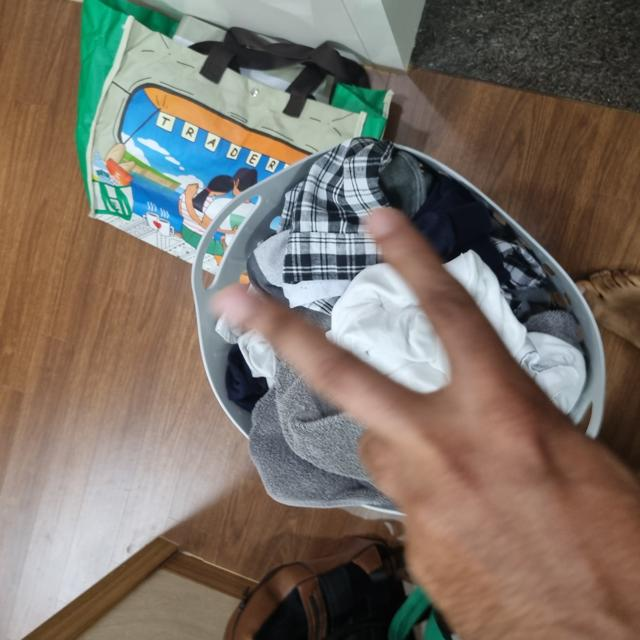Scissors: (0, 217, 433, 639)
